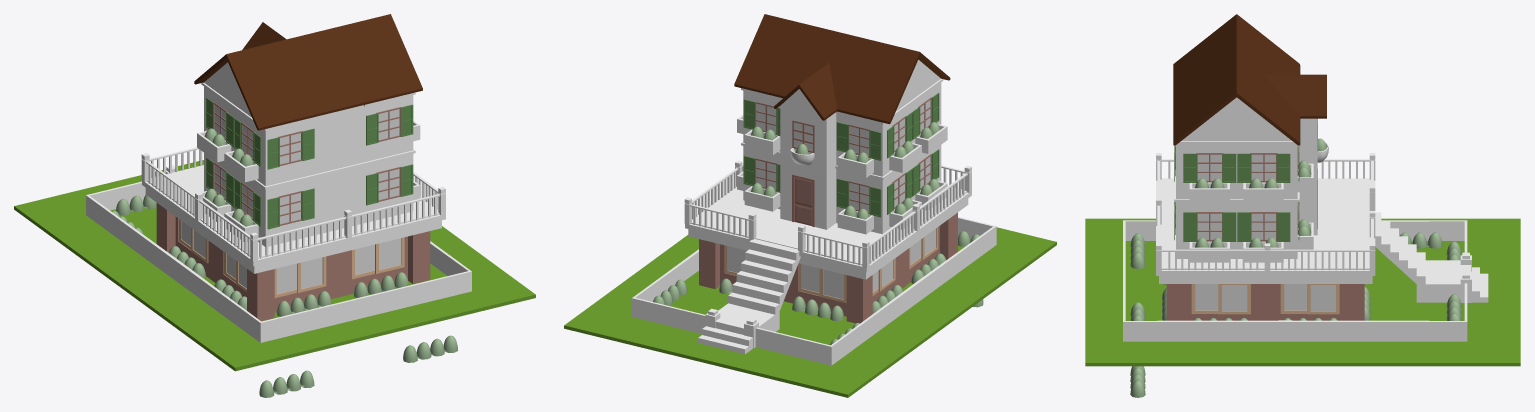
The model's file is HouseA.fbx.
The picture shows the model from 3 angles, left to right: view 1: azimuth 30°, elevation 25°; view 2: azimuth 150°, elevation 25°; view 3: azimuth 270°, elevation 25°; orthographic projection. The views are drawn at different scales.
Visible parts, largest first — view 1: Cube.095, Cube.074, Cube.066, Cube.080, Cube.058, Sphere.003, Cube.065, Cube.079, Cube.071, Cube.072, Cube.059, Cube.060 (+5 smaller); view 2: Cube.095, Cube.074, Cube.066, Cube.080, Cube.058, Cube.065, Cube.079, Cube.071, Sphere.003, Cube.057, Cube.059, Cube.069 (+8 smaller); view 3: Cube.095, Cube.066, Cube.080, Cube.058, Cube.074, Sphere.003, Cube.071, Cube.079, Cube.063, Cube.072, Cube.069, Cube.060 (+7 smaller).
Part boxes in pixels (x1,y1,x2,y2): Cube.095: (14, 160, 535, 371); Cube.074: (194, 14, 422, 130); Cube.066: (197, 62, 420, 246); Cube.080: (86, 165, 471, 342); Cube.058: (142, 165, 445, 273); Sphere.003: (112, 128, 457, 397); Cube.065: (315, 105, 363, 234); Cube.079: (141, 149, 445, 261); Cube.071: (206, 97, 413, 229); Cube.072: (284, 28, 365, 116); Cube.059: (156, 203, 430, 320); Cube.060: (175, 217, 407, 312); Cube.095: (564, 227, 1056, 397); Cube.074: (734, 14, 950, 124); Cube.066: (737, 60, 947, 234); Cube.080: (632, 216, 996, 365); Cube.058: (685, 185, 971, 279); Cube.065: (780, 89, 836, 229); Cube.079: (684, 160, 971, 267); Cube.071: (743, 93, 939, 217); Sphere.003: (653, 122, 983, 345); Cube.057: (728, 239, 800, 314); Cube.059: (699, 212, 957, 323); Cube.069: (756, 100, 930, 212); Cube.095: (1085, 218, 1520, 366); Cube.066: (1174, 97, 1313, 262); Cube.080: (1123, 220, 1471, 341); Cube.058: (1156, 178, 1375, 283); Cube.074: (1173, 14, 1326, 145); Sphere.003: (1130, 160, 1461, 397); Cube.071: (1174, 145, 1299, 241); Cube.079: (1156, 153, 1375, 271); Cube.063: (1195, 284, 1335, 311); Cube.072: (1173, 42, 1296, 114); Cube.069: (1197, 154, 1275, 239); Cube.060: (1186, 284, 1344, 320).
Bounding box in the file's own units: 1.3 × 1.25 × 1.66.
